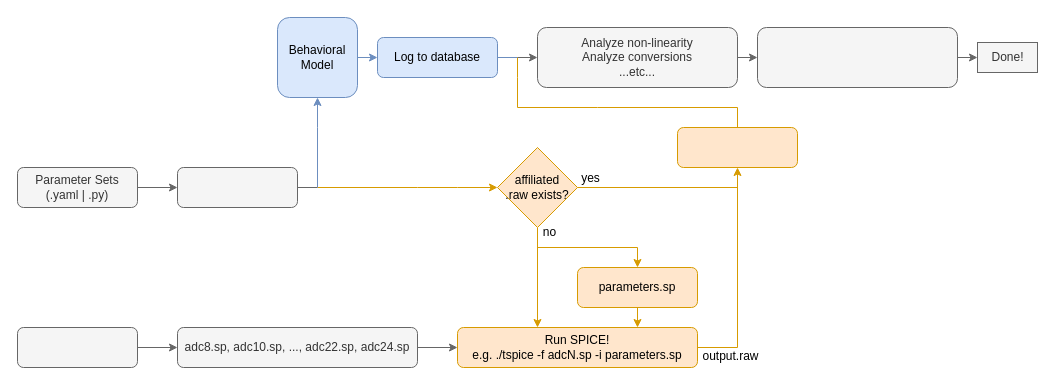
This 1055x389 diagram has some shape labels left out. The box of each missing label's shape, as (x1, y1, x2, y2) in pixels:
Covert ADC params to run cases: (176, 166, 298, 208)
Parse .raw to database: (676, 126, 798, 168)
Plot non-linearity Plot conversions ...etc...: (756, 26, 958, 88)
Schematics (.oa): (16, 326, 138, 368)
